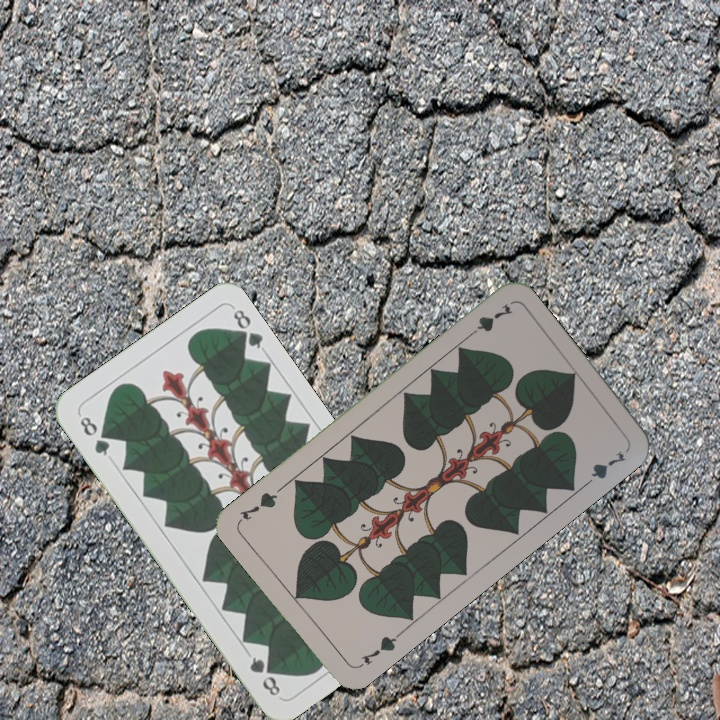G7: (462, 299, 515, 342), (354, 628, 404, 671)
G8: (75, 412, 113, 459)
